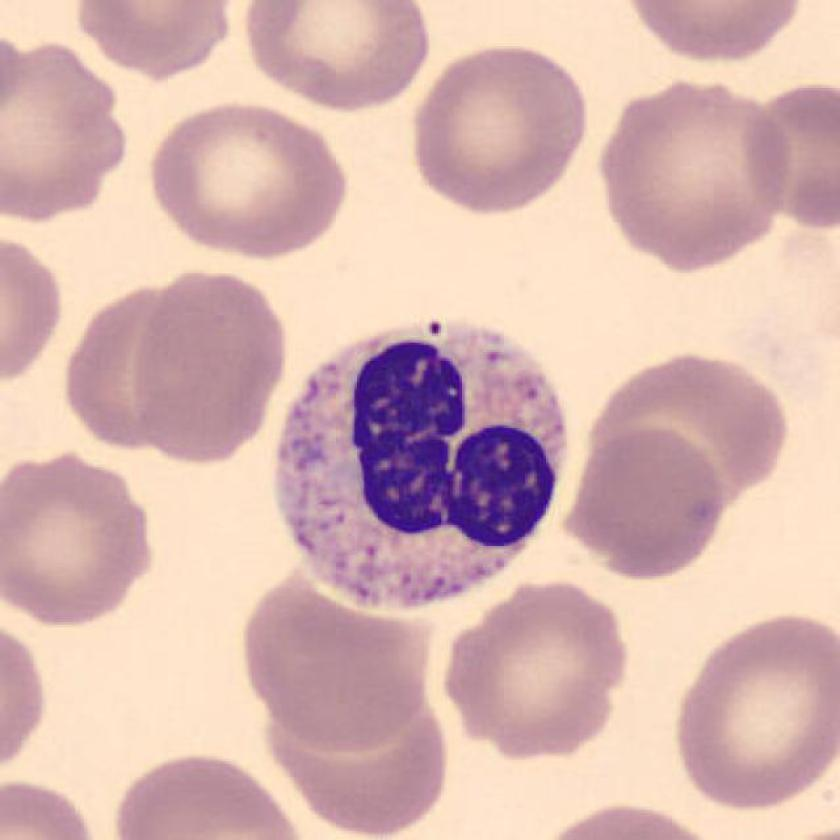neutrophil: (278, 325, 565, 609)
